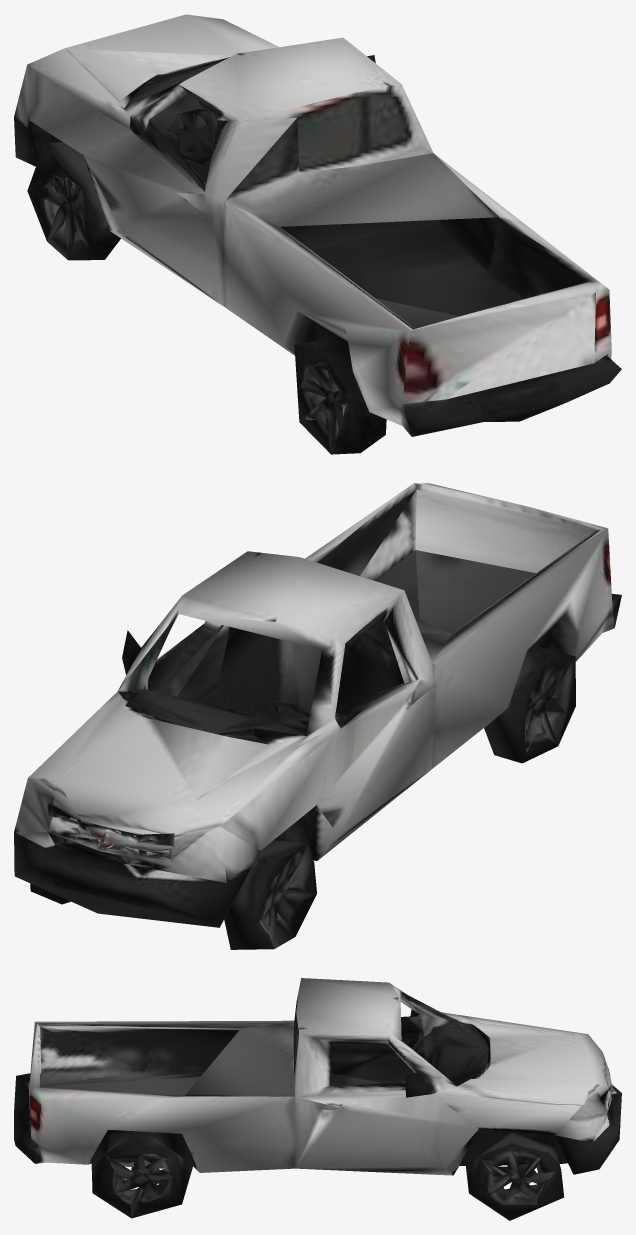
Rendered from sp_car_pickup_far.glb.
3 renders of one model, top to bottom at view 1: azimuth 30°, elevation 25°; view 2: azimuth 150°, elevation 25°; view 3: azimuth 270°, elevation 25°, orthographic. The views are drawn at different scales.
Visible parts, largest first — view 1: tripo_node_cc5f7ab9-642b-471d-875f-b0c47b1b36be; view 2: tripo_node_cc5f7ab9-642b-471d-875f-b0c47b1b36be; view 3: tripo_node_cc5f7ab9-642b-471d-875f-b0c47b1b36be.
Boxes of the visible parts, <box> form: tripo_node_cc5f7ab9-642b-471d-875f-b0c47b1b36be: <box>14,14,621,454</box>; tripo_node_cc5f7ab9-642b-471d-875f-b0c47b1b36be: <box>14,483,621,949</box>; tripo_node_cc5f7ab9-642b-471d-875f-b0c47b1b36be: <box>14,978,621,1220</box>.
Bounding box in the file's own units: 1.97 × 1.91 × 5.88.
1 material, 1 textured.
